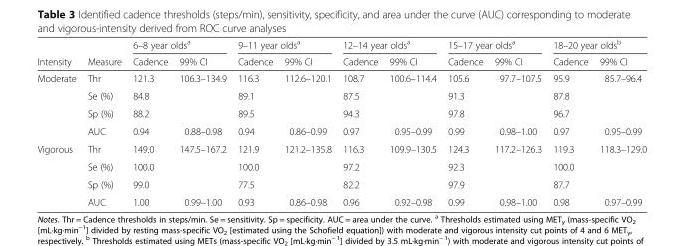table: (36, 37, 646, 207)
table column: (173, 37, 231, 207), (278, 37, 336, 207), (383, 37, 441, 207), (488, 37, 546, 207), (593, 37, 646, 207), (126, 37, 173, 207), (231, 37, 278, 207), (336, 37, 383, 207), (441, 37, 488, 207), (546, 37, 593, 207), (36, 37, 81, 207), (81, 37, 126, 207)
table column header: (36, 37, 646, 69)
table row: (36, 86, 646, 104), (36, 104, 646, 122), (36, 139, 646, 157), (36, 157, 646, 175), (36, 52, 646, 69), (36, 69, 646, 86), (36, 122, 646, 139), (36, 175, 646, 192), (36, 37, 646, 52), (36, 192, 646, 207)
table spanning cell: (36, 69, 81, 139), (36, 139, 81, 207), (126, 37, 231, 52), (231, 37, 336, 52), (336, 37, 441, 52), (441, 37, 546, 52), (546, 37, 646, 52), (36, 37, 81, 69), (81, 37, 126, 69)
